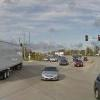Car: (37, 59, 61, 82)
